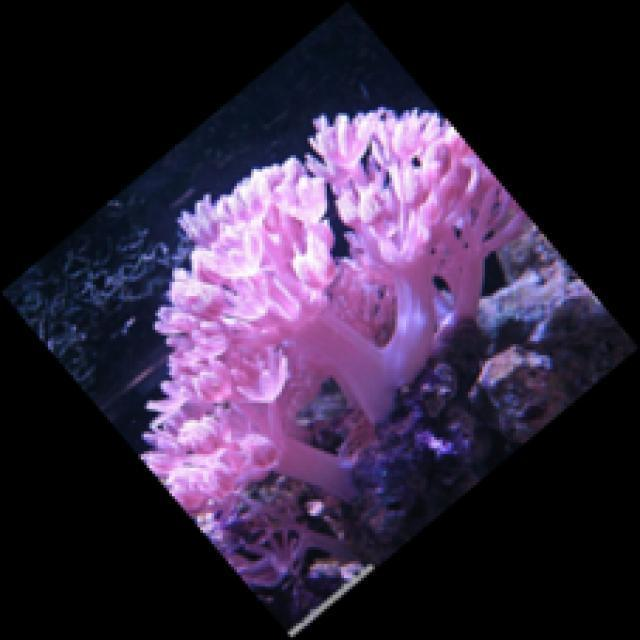Healthy: (140, 108, 530, 589)
